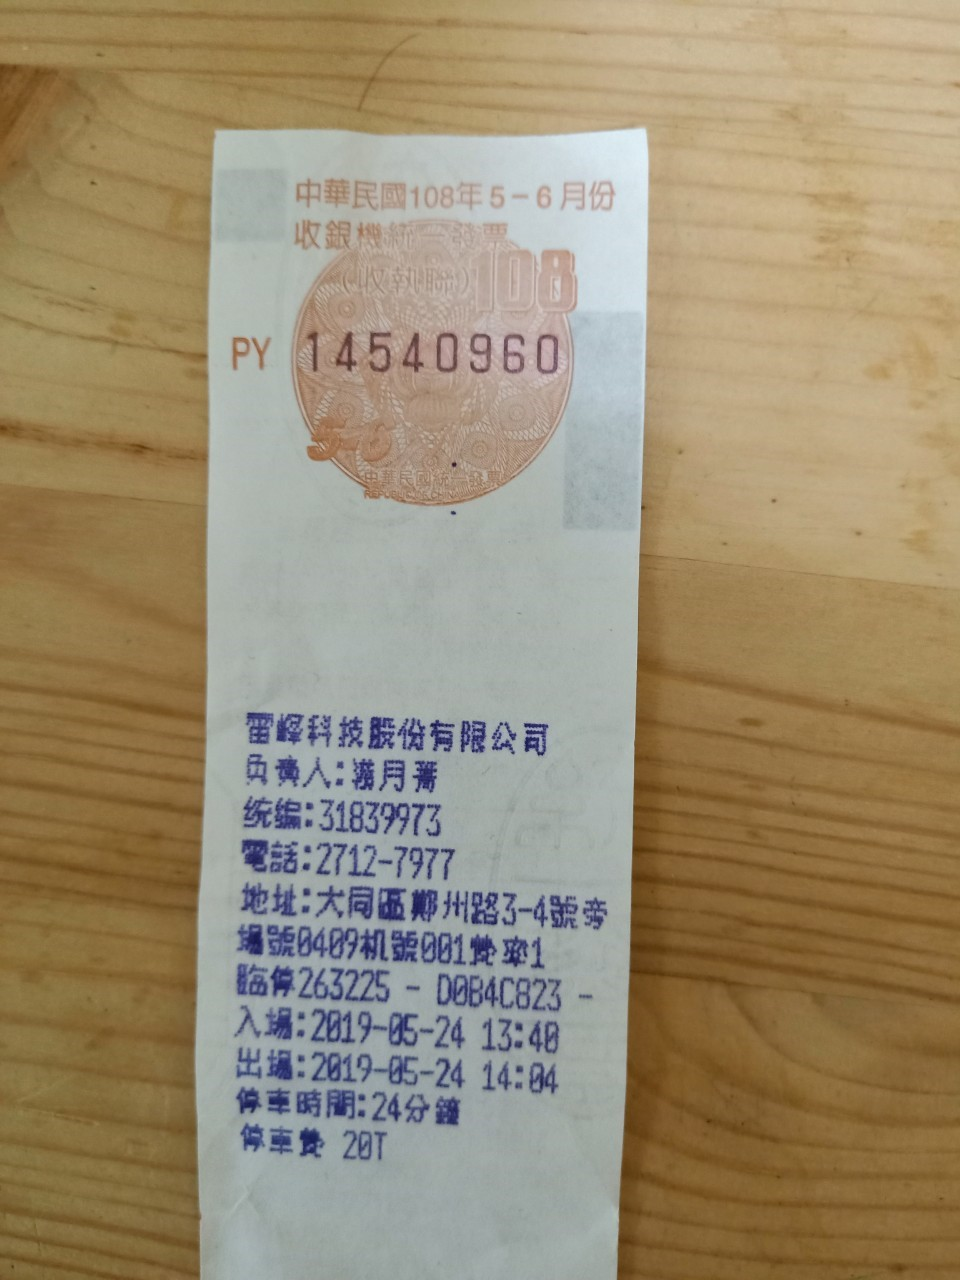Date_Old: (406, 175, 622, 220)
Number_Old: (301, 321, 567, 382)
